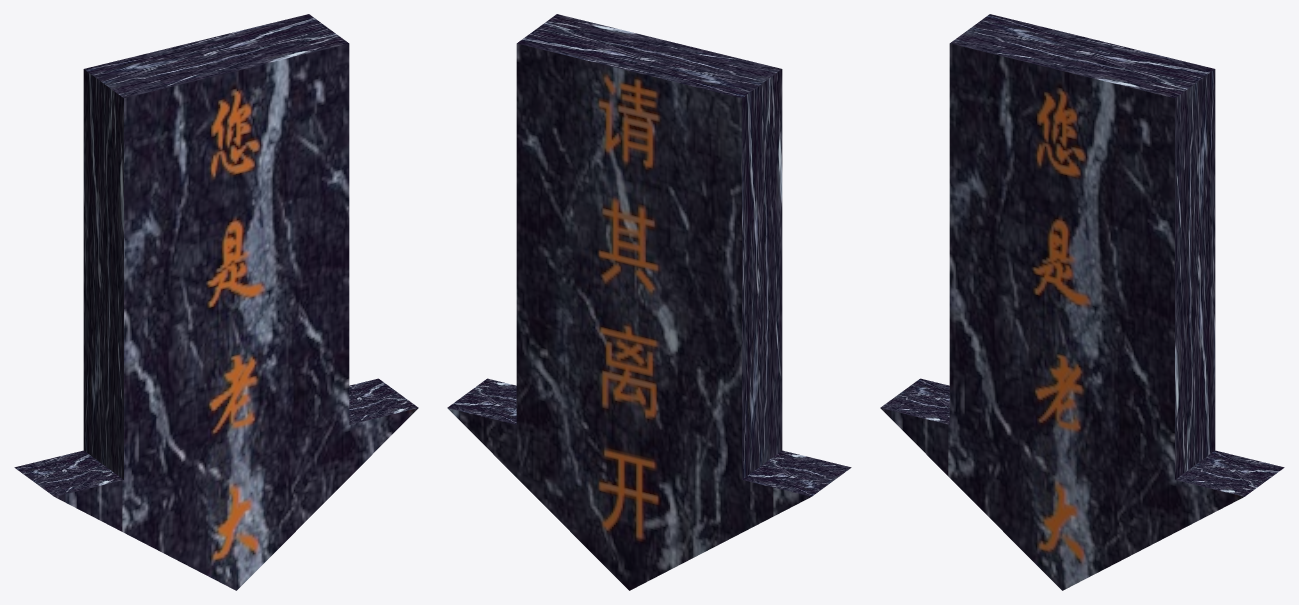
File: leavegame.obj
3 views of the same model, side by side, from view 1: azimuth 30°, elevation 25°; view 2: azimuth 150°, elevation 25°; view 3: azimuth 330°, elevation 25° (orthographic).
Visible parts, largest first — view 1: Object.1; view 2: Object.1; view 3: Object.1.
Boxes of the visible parts, box(x1,y1,x2,y2) form: Object.1: box(14, 14, 418, 590); Object.1: box(447, 14, 851, 590); Object.1: box(880, 14, 1284, 590).
Size of the model in its own units: 89.09 by 121 by 17.01.
Materials: 1 (1 with a texture image).
